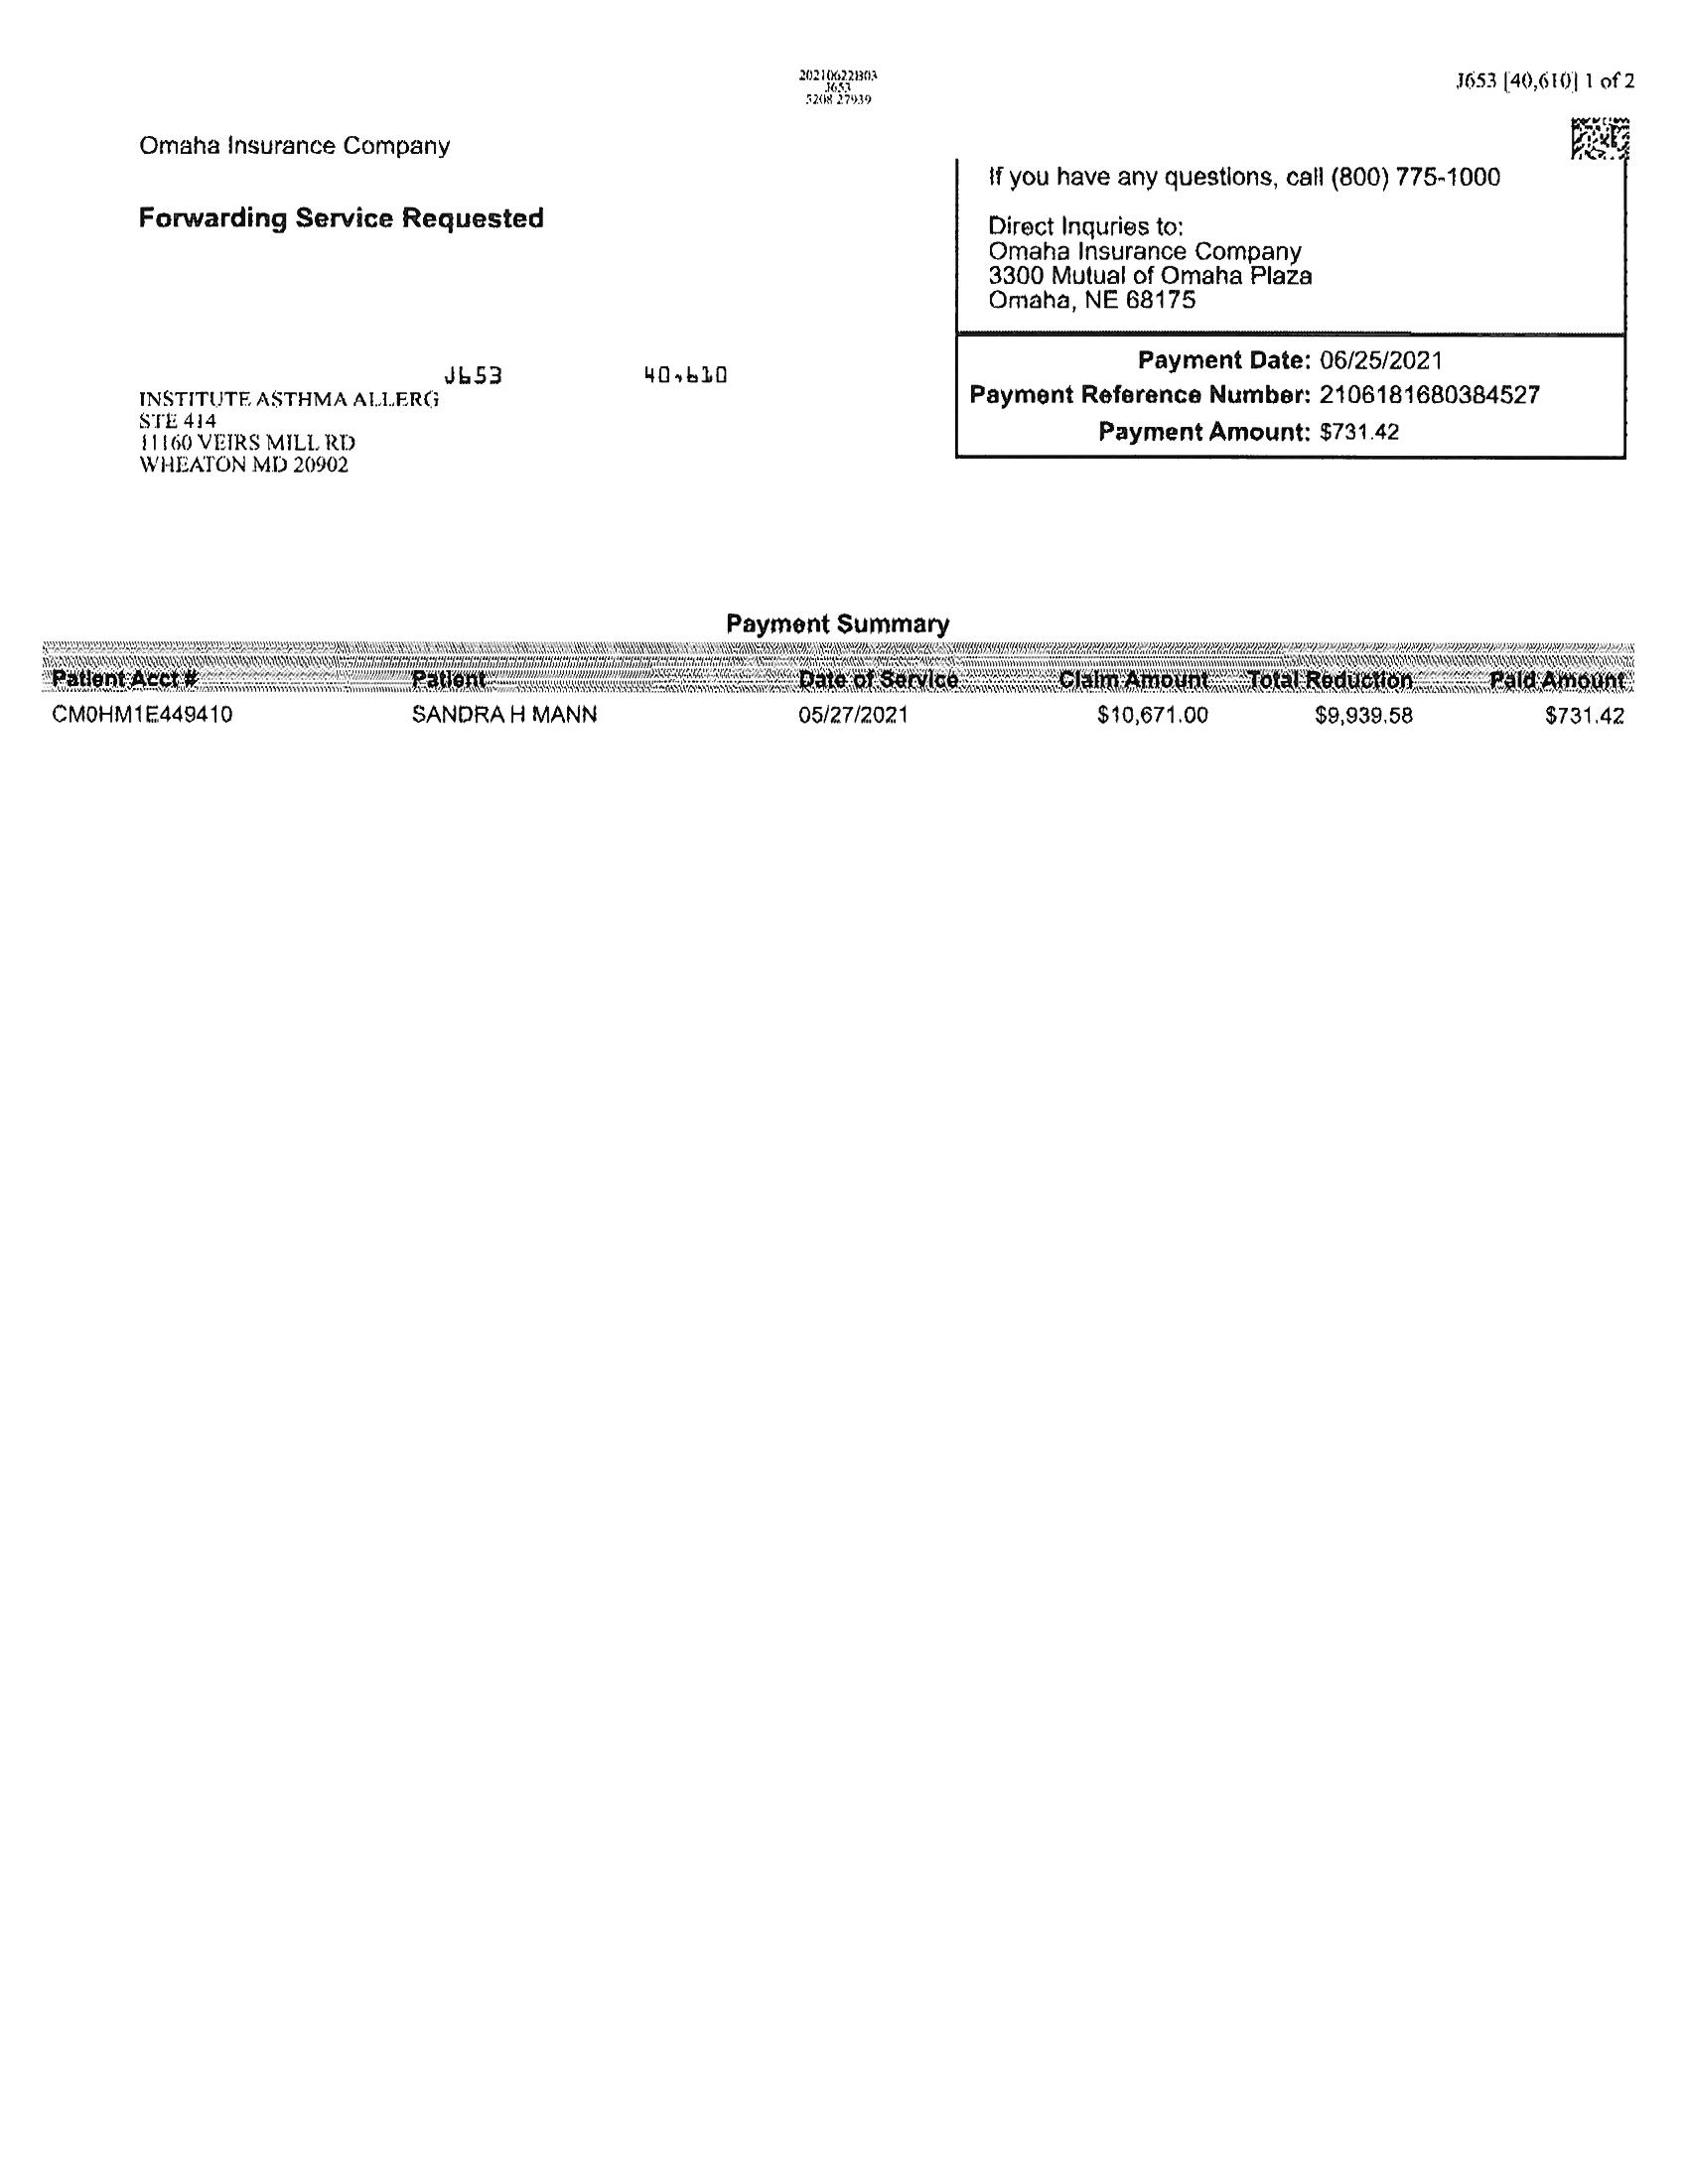data: (934, 312, 1676, 493)
table: (27, 642, 1637, 752)
